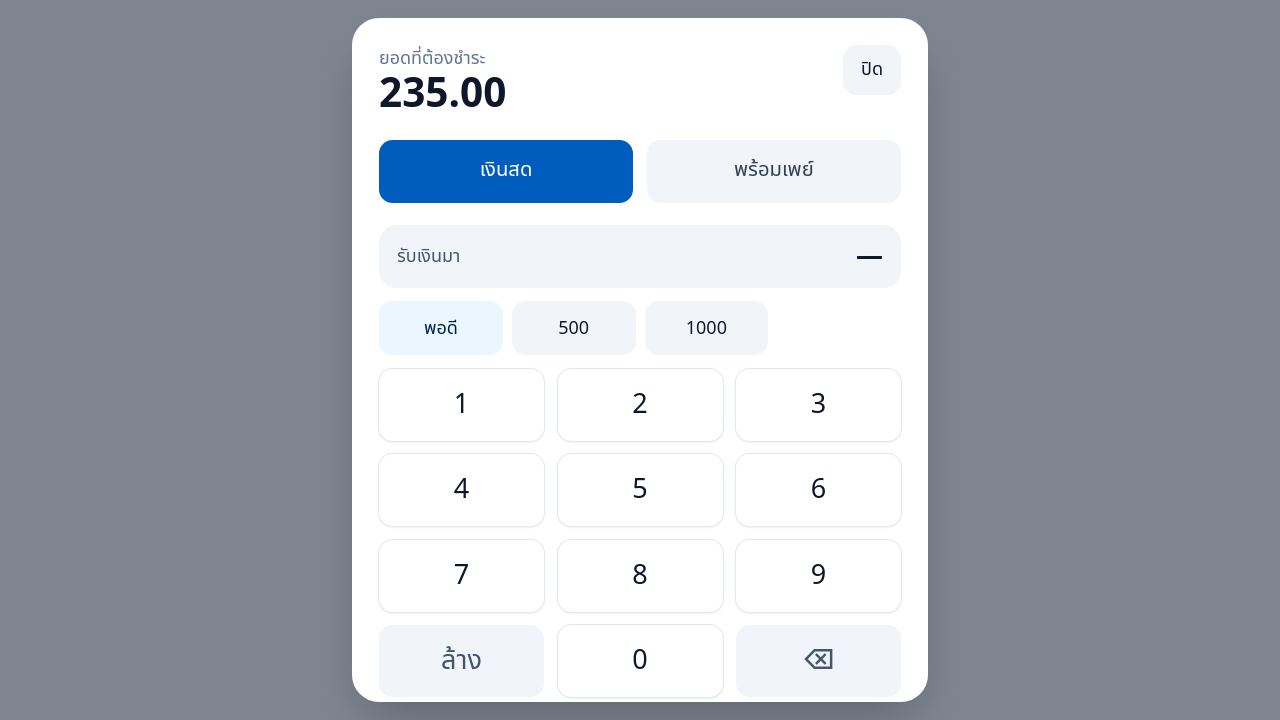
Test: cash › computes the change from whole baht typed on the keypad
Click the button "5".
click(640, 490)  # box [558,454,722,526]
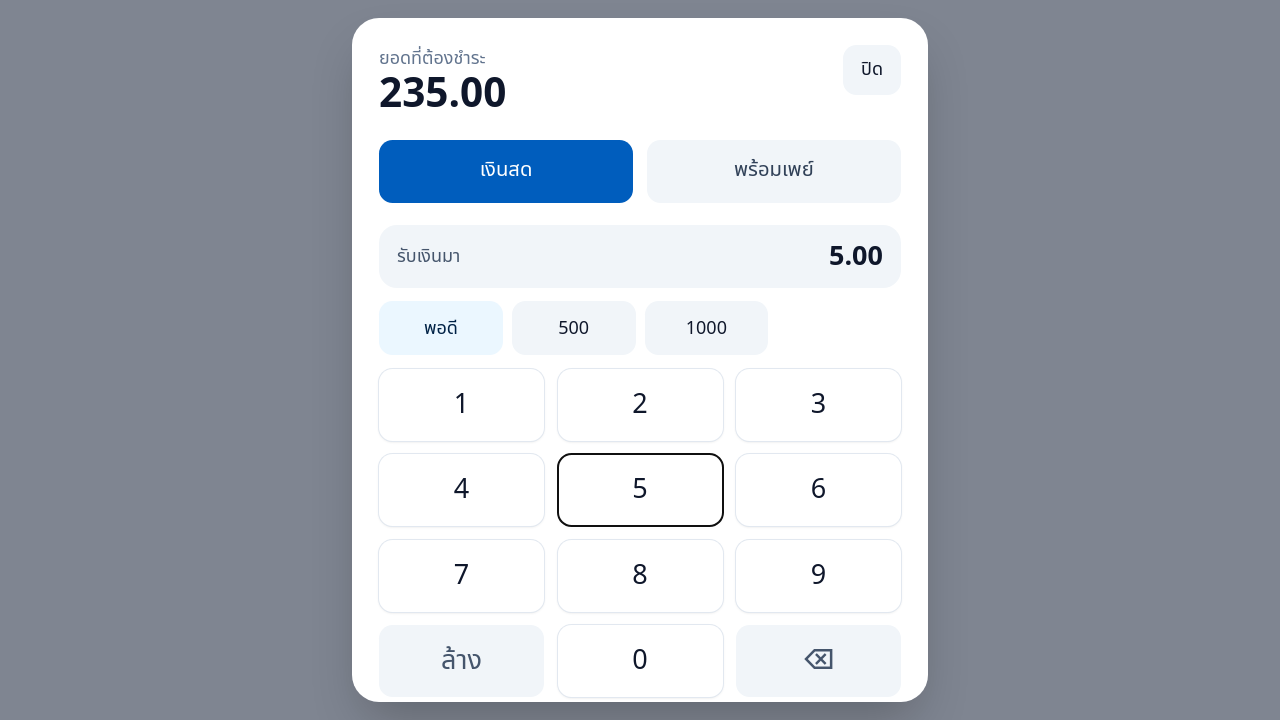
Click the button "0".
click(640, 662)  # box [558,626,722,698]
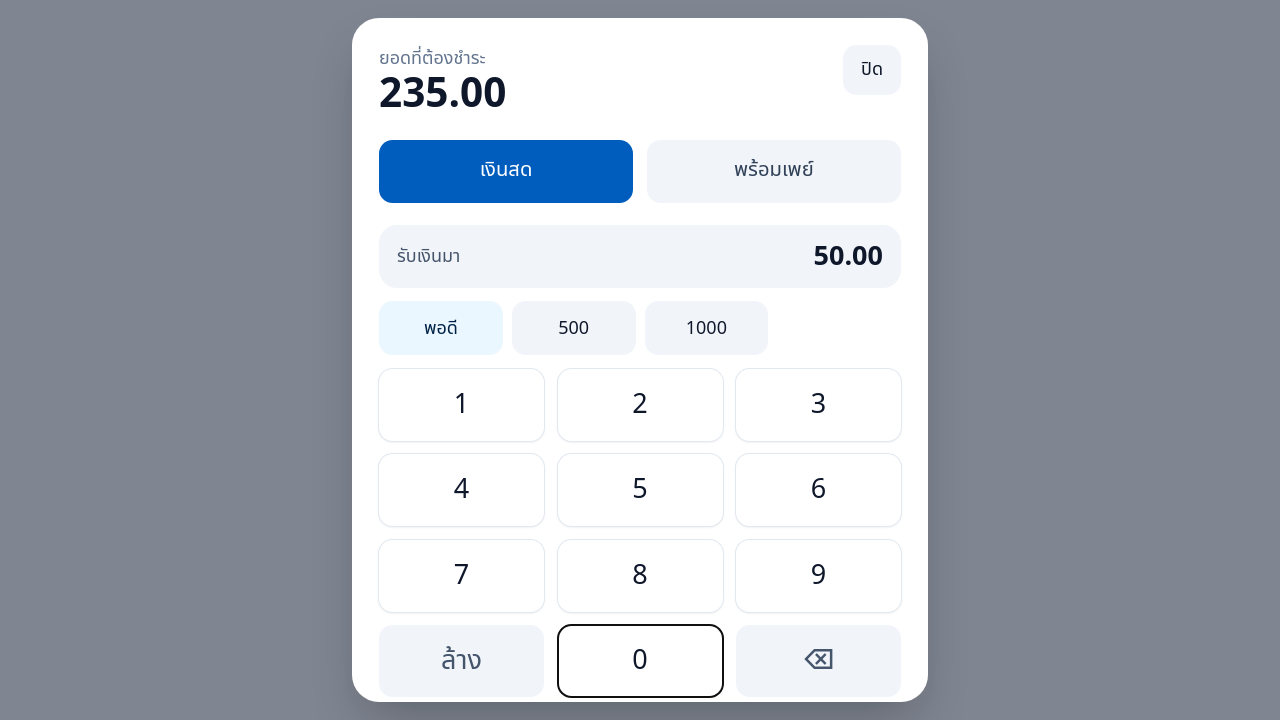
Click the button "0".
click(640, 662)  # box [558,626,722,698]
(page scrolled)
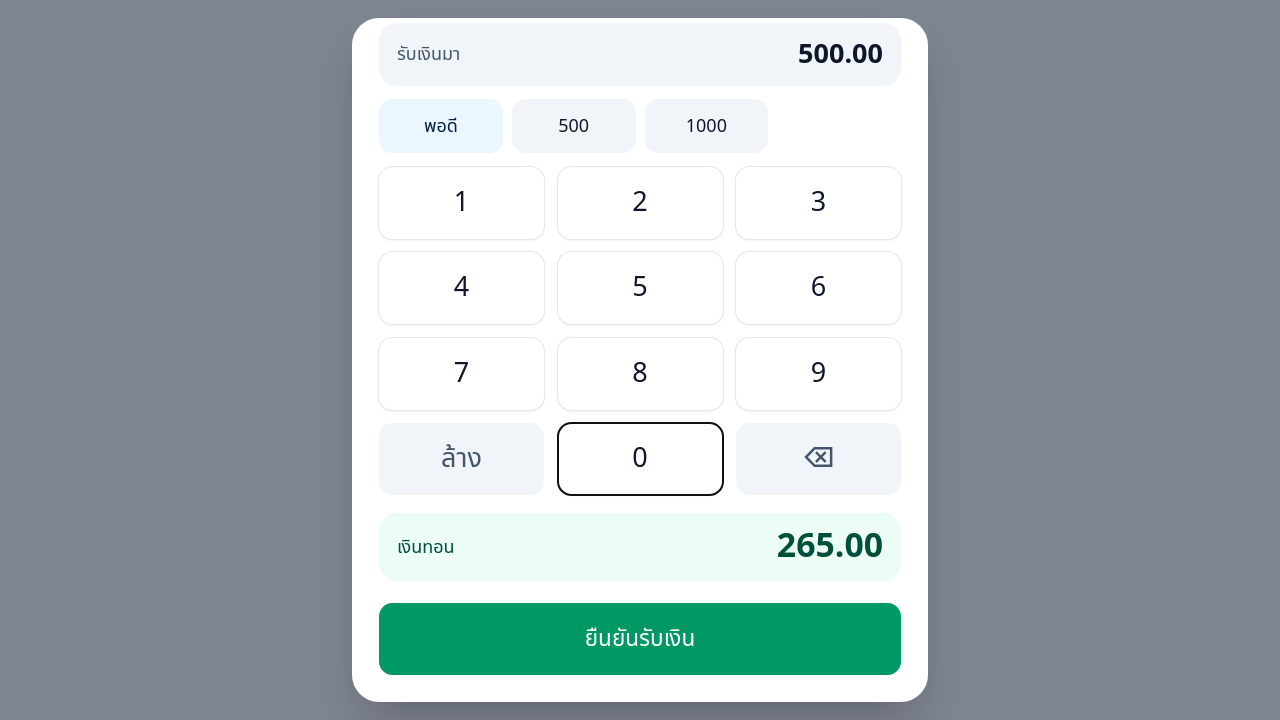
Expected: the text "265.00" is shown, [777,527,883,568]
